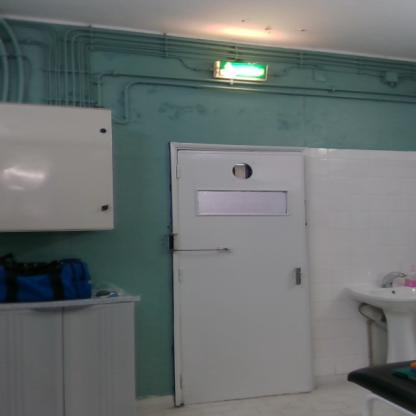closed: (167, 127, 320, 416)
